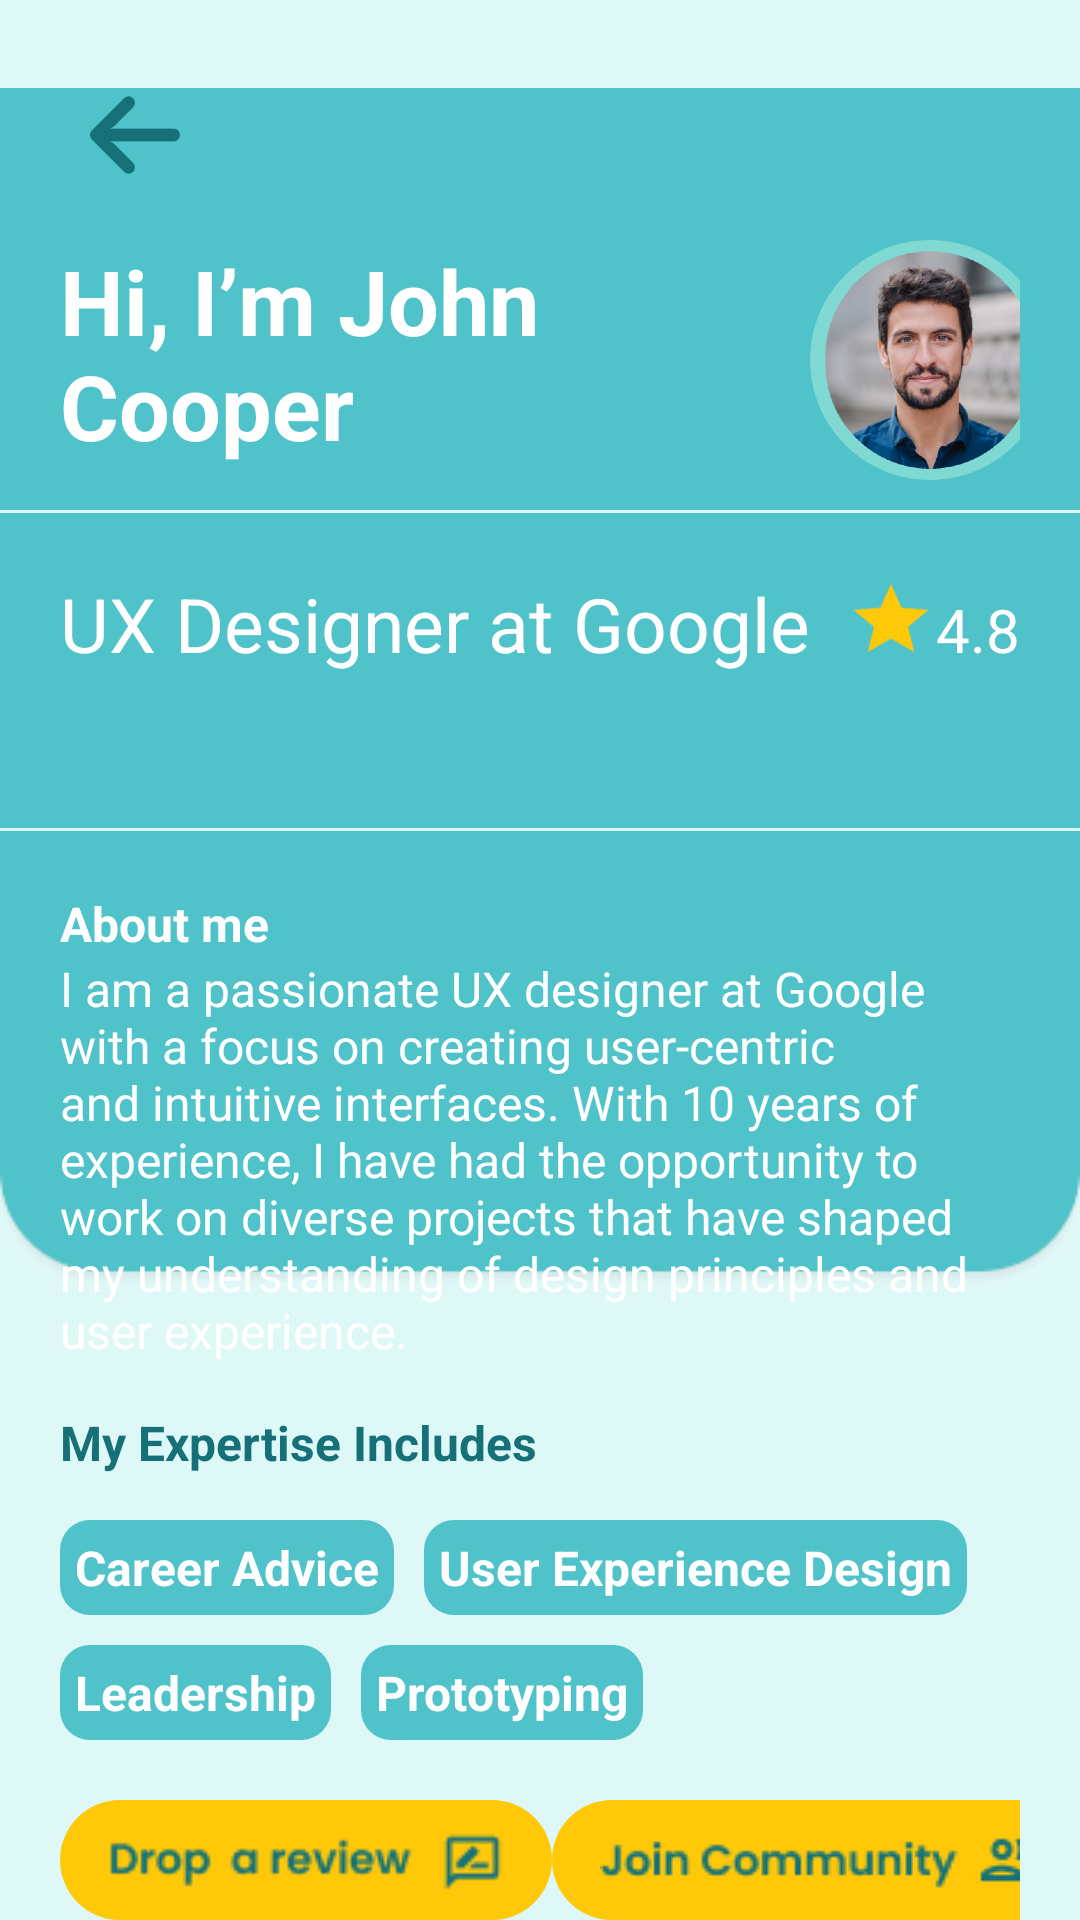

Screen size 1080 x 1920. Icon name, then its box in pixels as box(x1, y1, x2, y2):
arrow: box(90, 96, 180, 174)
star: box(854, 584, 928, 652)
